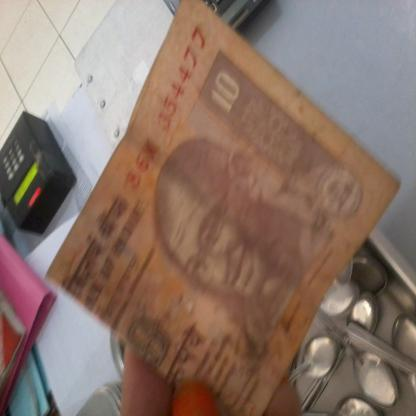Old10Front: (46, 0, 400, 416)
